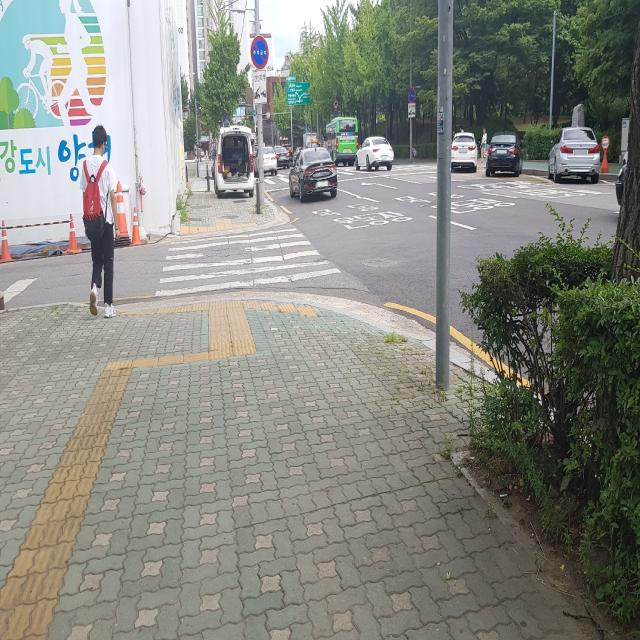횡단보도: (154, 226, 342, 298)
